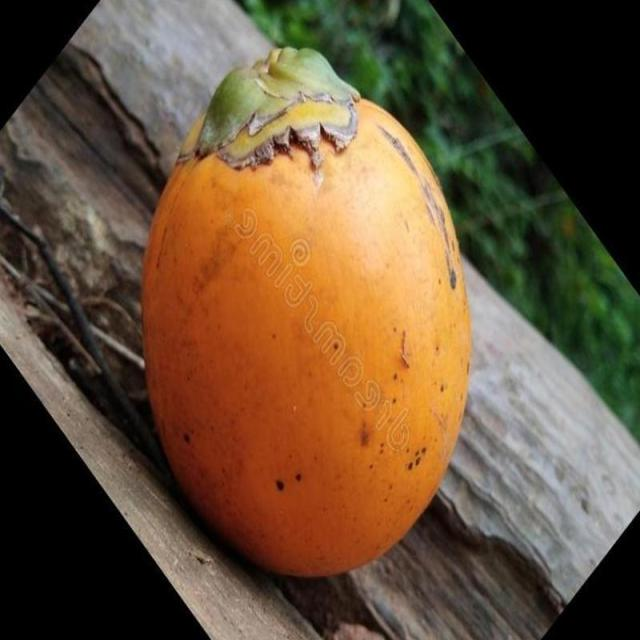good: (141, 47, 474, 582)
